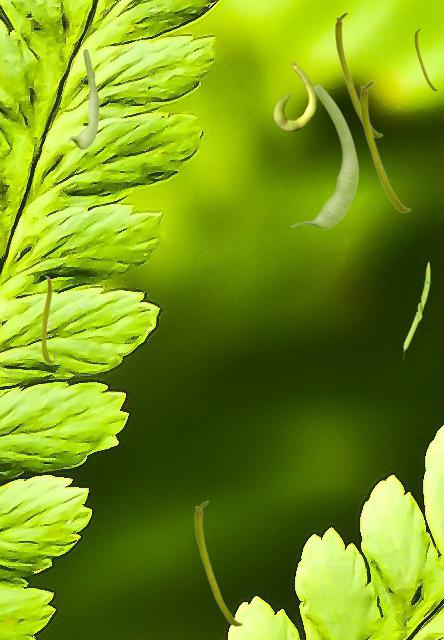french_bean: (290, 83, 358, 228), (359, 80, 410, 212), (194, 500, 242, 626), (334, 11, 382, 137), (67, 48, 98, 148), (273, 62, 315, 130), (402, 260, 430, 360), (414, 28, 437, 90), (41, 275, 54, 362)
